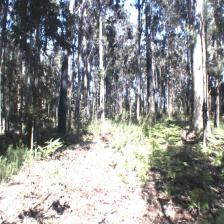trunktrack_idkeyframe: (57, 84, 67, 134)
